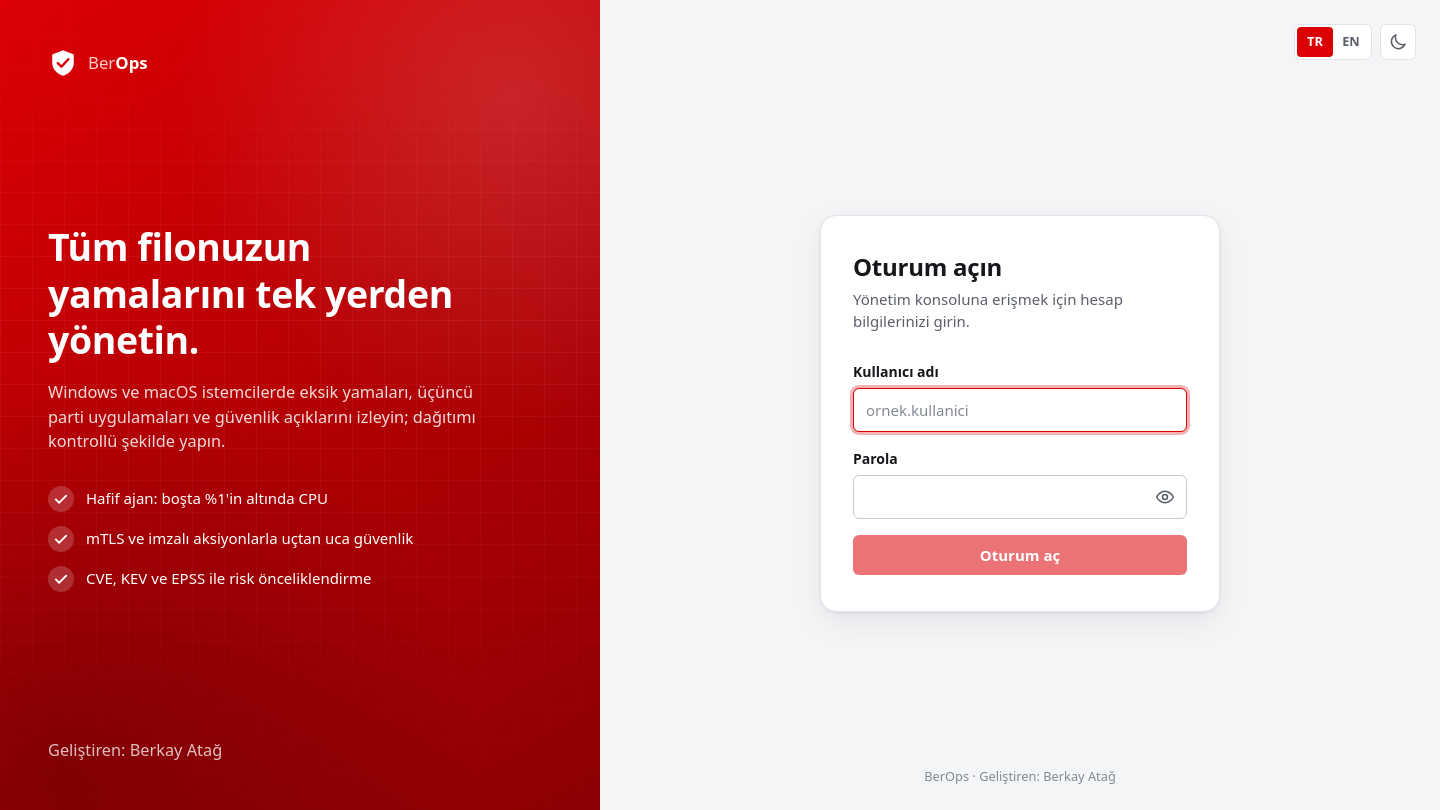
Test: giriş ekranı › başarılı girişten sonra gösterge panelini açar ve CSRF token'ını gönderir
Type "admin" into the field labelled "Kullanıcı adı".
click(1020, 410); type("admin")  # box x1=853 y1=388 x2=1187 y2=432
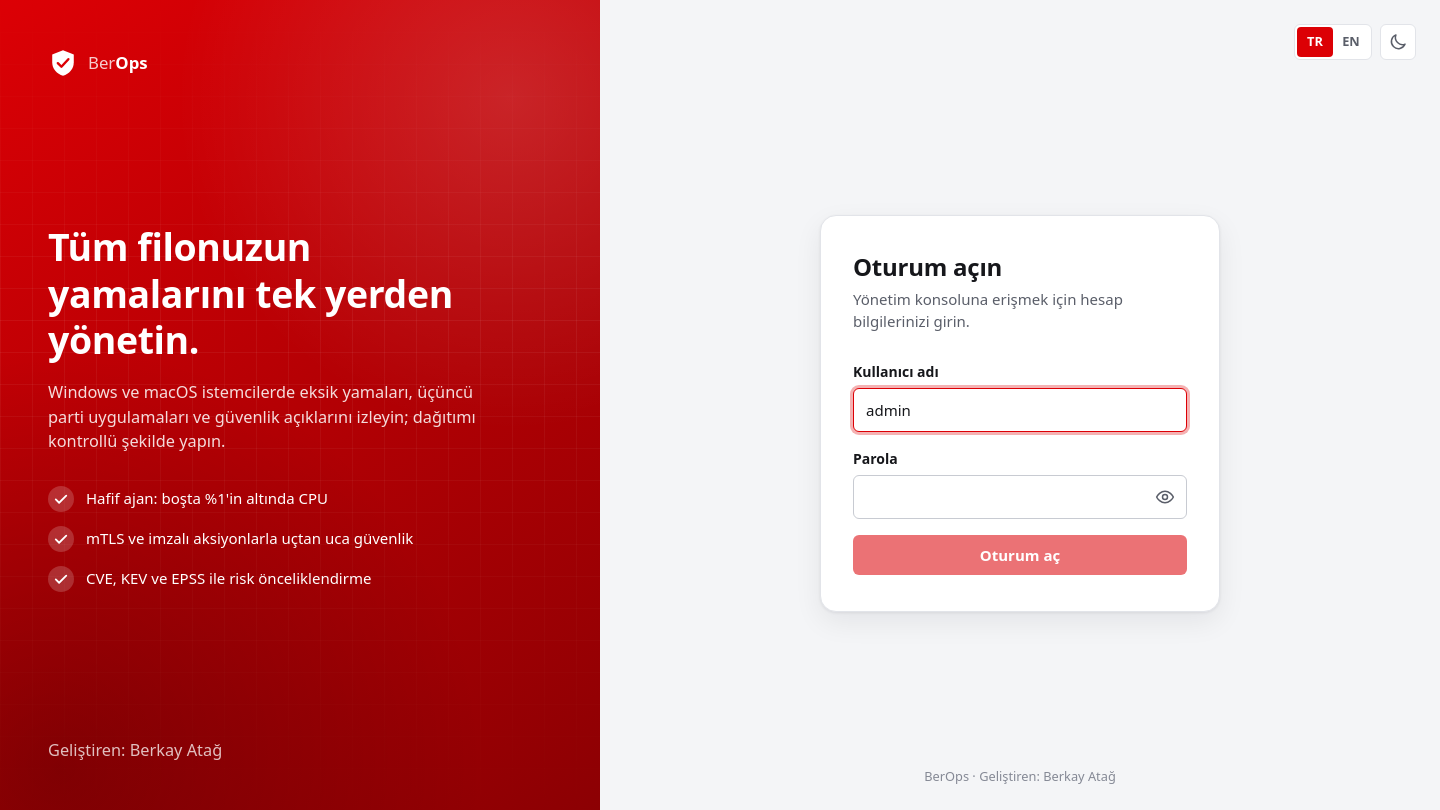
Type "dogru-parola" into the password field labelled "Parola".
click(1020, 497); type("dogru-parola")  # box x1=853 y1=475 x2=1187 y2=519
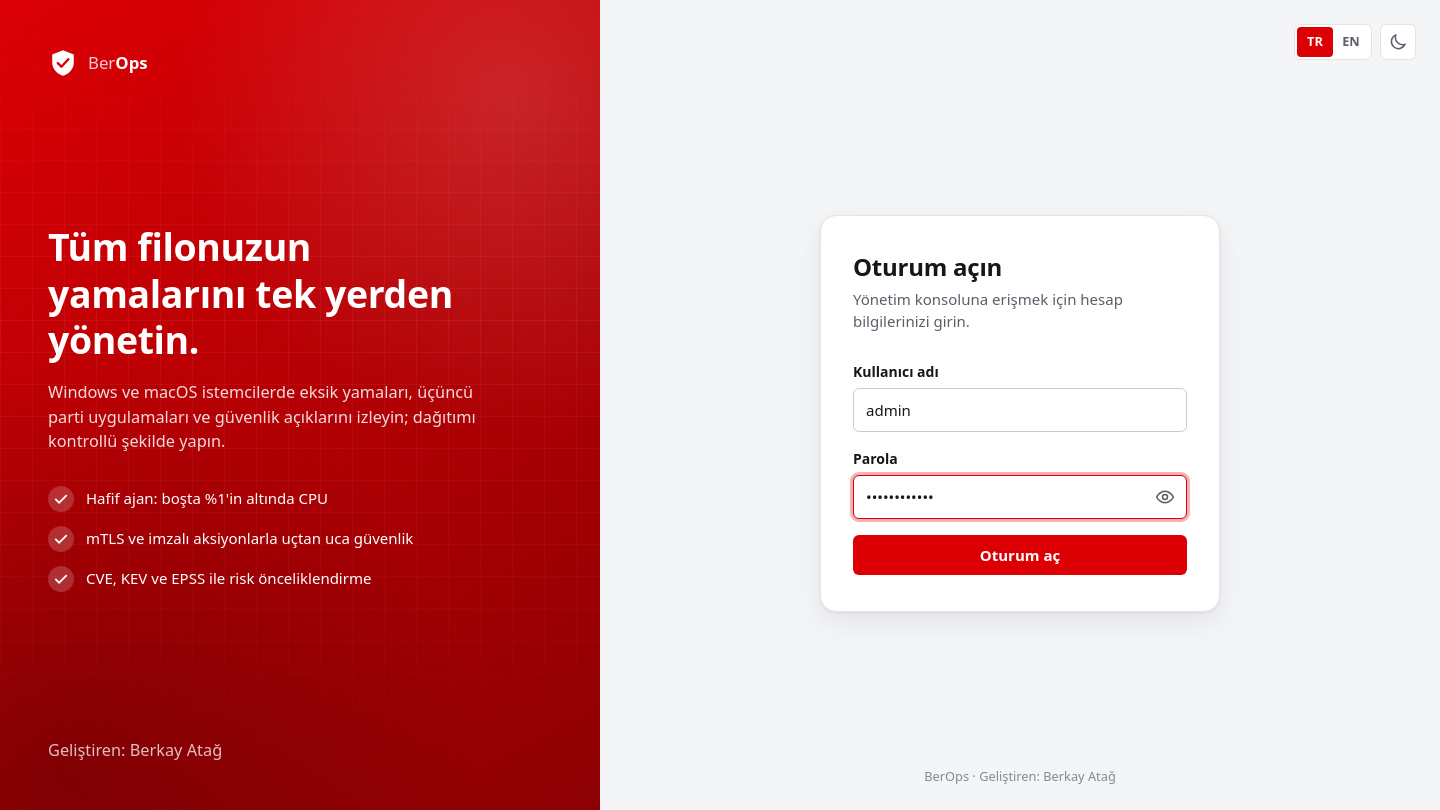
Click the button "Oturum aç".
click(1020, 555)  # box x1=853 y1=535 x2=1187 y2=575
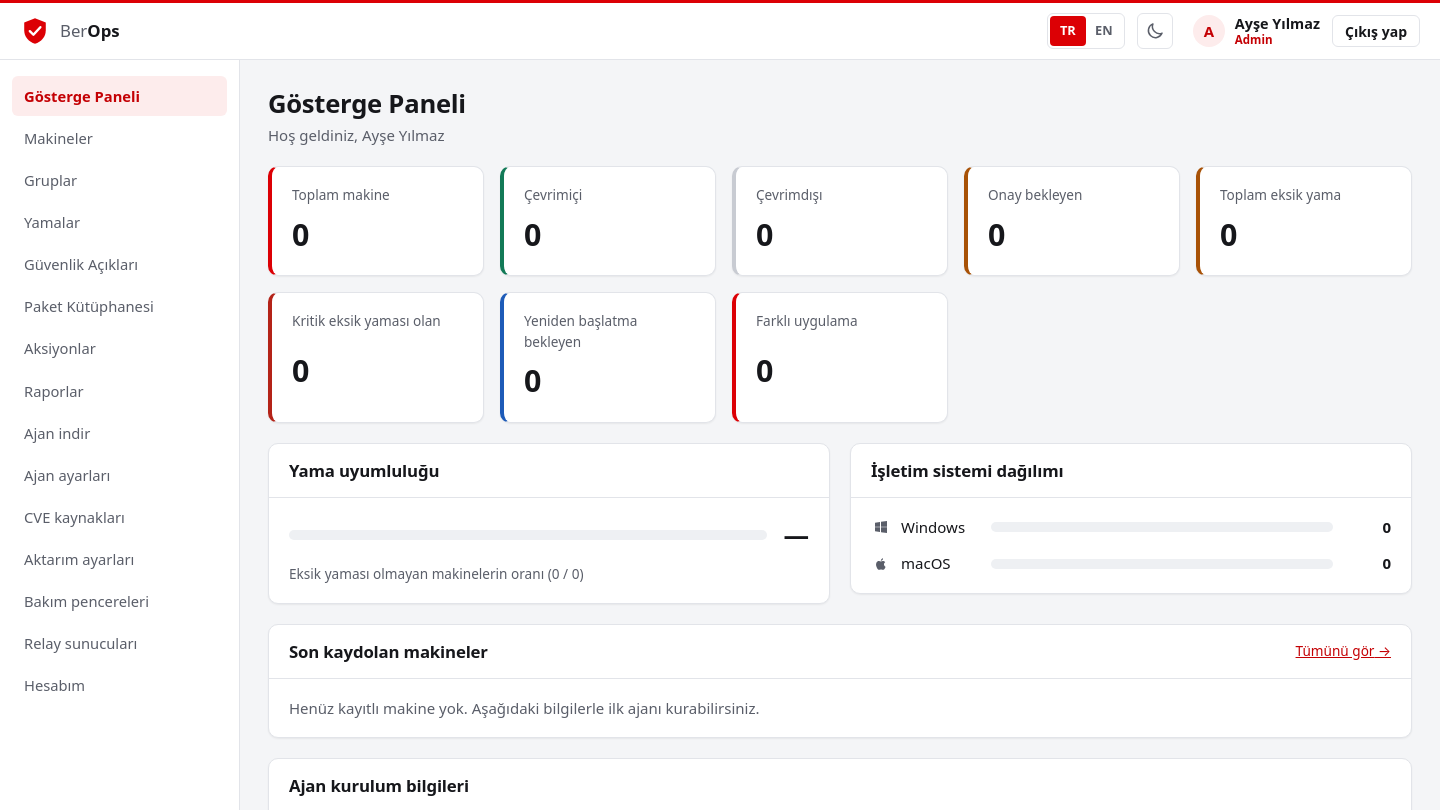
Result: the heading "Gösterge Paneli" is shown at x1=268 y1=86 x2=466 y2=121
Result: the text "Hoş geldiniz, Ayşe Yılmaz" is shown at x1=268 y1=125 x2=444 y2=145
Click the button "Çıkış yap".
click(1376, 31)  # box x1=1332 y1=15 x2=1420 y2=47
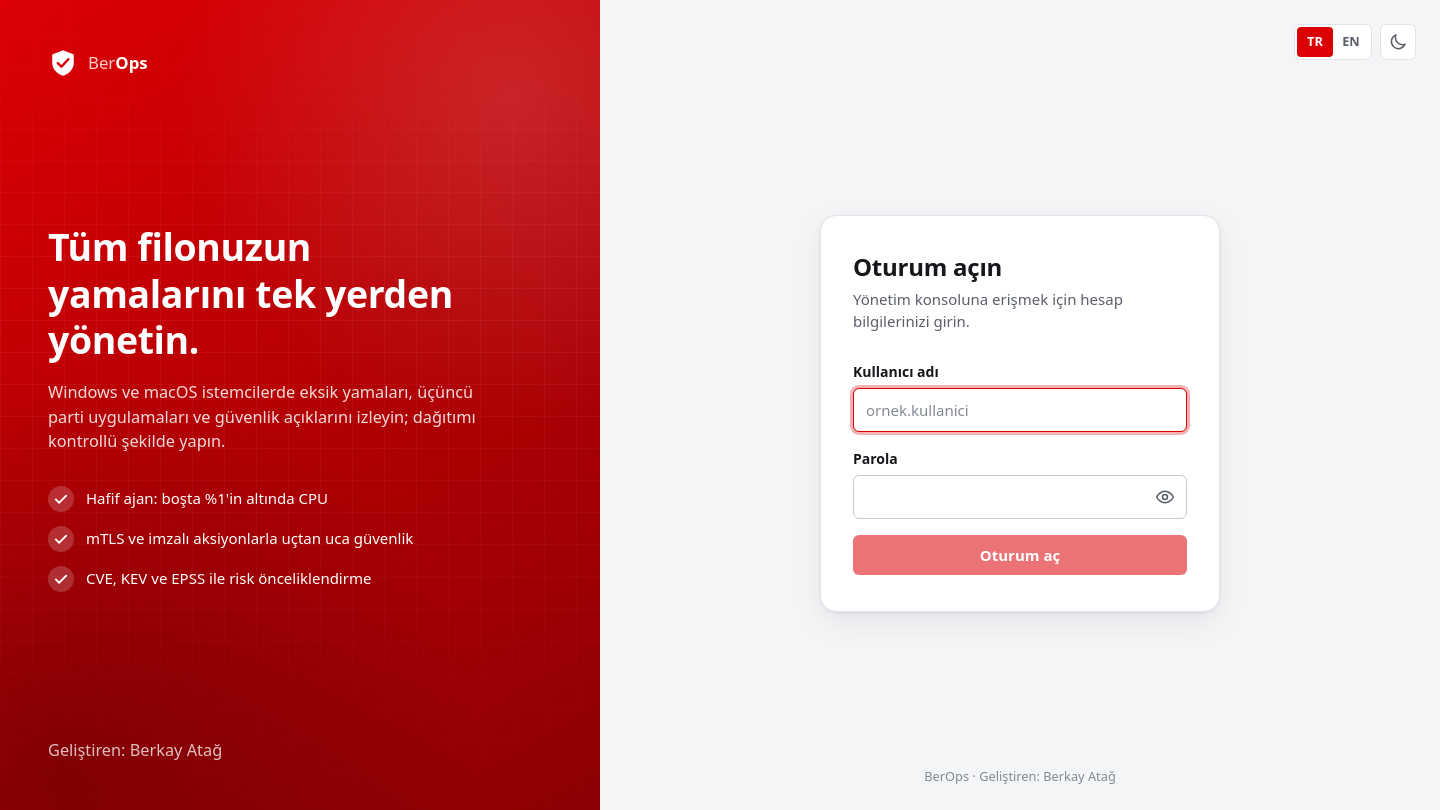
Result: the heading "Oturum açın" is shown at x1=853 y1=250 x2=1002 y2=283
